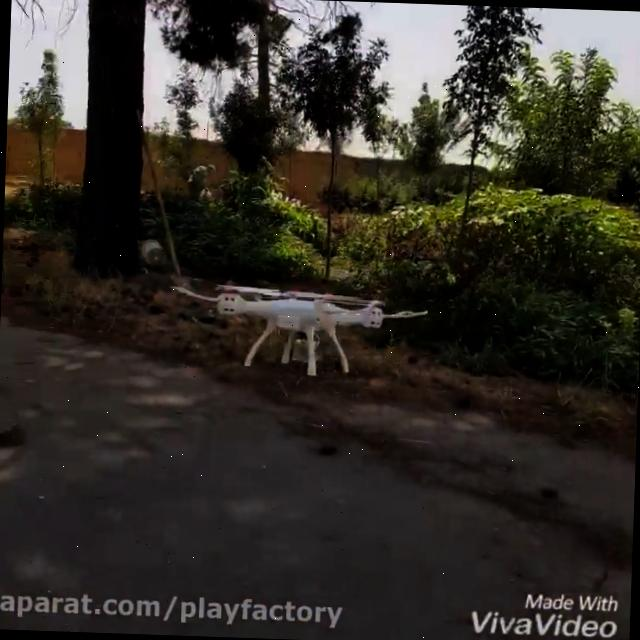drone: (166, 278, 428, 378)
